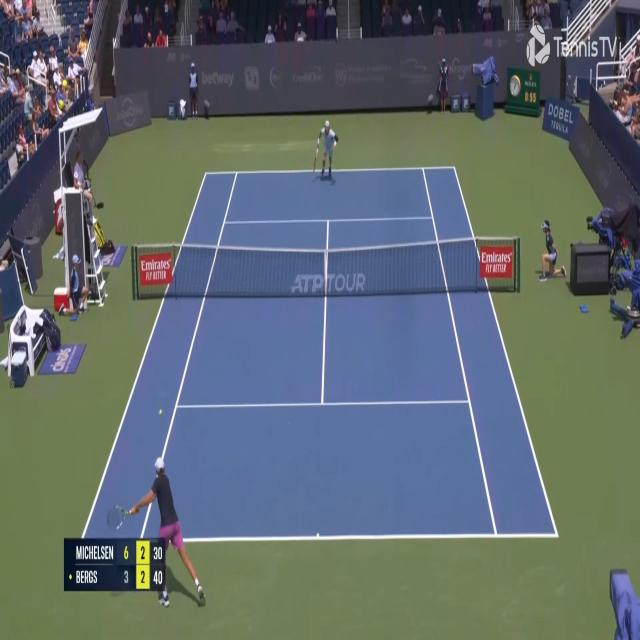tennis-player: (114, 453, 209, 612), (314, 115, 339, 182)
